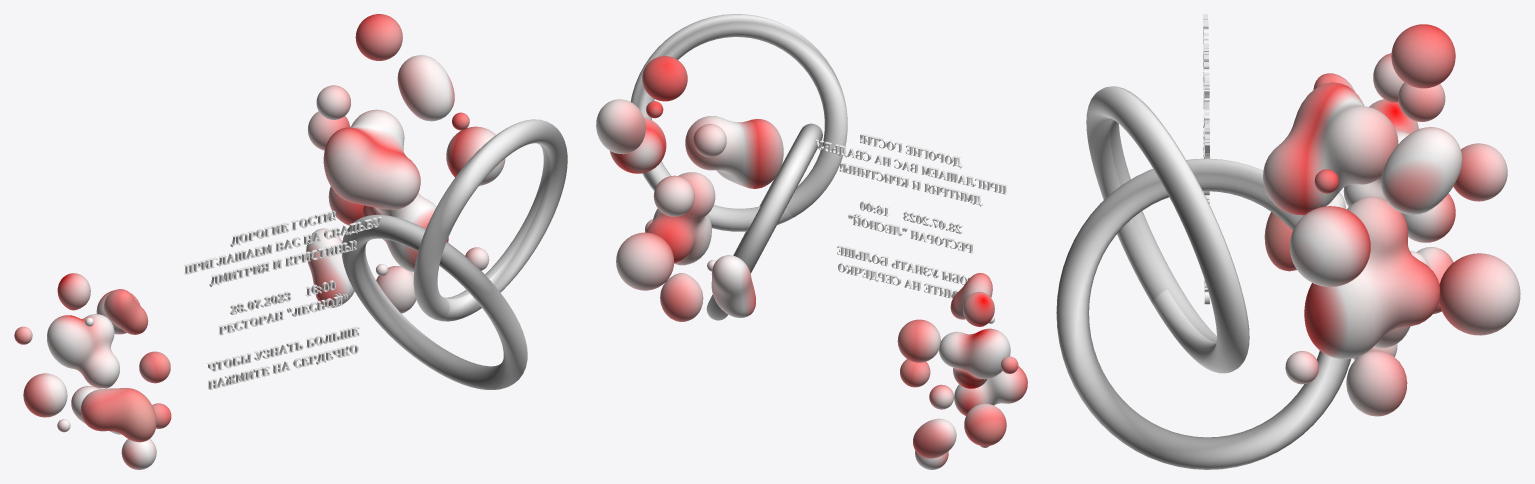
File: Project Name.gltf
The picture shows the model from 3 angles, left to right: view 1: azimuth 30°, elevation 25°; view 2: azimuth 150°, elevation 25°; view 3: azimuth 270°, elevation 25°; orthographic projection. The views are drawn at different scales.
Parts seen in each view (by area): view 1: Torus 1, Torus, Blob 2 (×2), Blob 8 (×2), Blob 13 (×2), Blob 11 (×2), Blob 10, Blob 5 (×2), Blob 1 (×2), Blob 9 (×2), Blob 6, Blob 4; view 2: Torus 1, Blob 2 (×2), Blob 8 (×2), Blob 4 (×2), Torus, Blob 10 (×2), Blob 13 (×2), Blob 11 (×2), Blob 1 (×2), Blob 9 (×2), Blob 5, Blob 6 (×2); view 3: Torus, Torus 1, Blob 8 (×2), Blob 2 (×2), Blob 11 (×2), Blob 10 (×2), Blob 4, Blob 1 (×2), Blob 5, Blob 9, Blob 6, Blob 12 (+2 smaller).
Part boxes in pixels (left/top/right/bottom): Torus 1: left=413, top=119, right=567, bottom=321; Torus: left=342, top=214, right=527, bottom=389; Blob 2 (×2): left=80, top=109, right=420, bottom=442; Blob 8 (×2): left=47, top=193, right=448, bottom=388; Blob 13 (×2): left=103, top=228, right=354, bottom=334; Blob 11 (×2): left=23, top=126, right=505, bottom=417; Blob 10: left=397, top=55, right=454, bottom=121; Blob 5 (×2): left=121, top=14, right=402, bottom=469; Blob 1 (×2): left=57, top=266, right=416, bottom=313; Blob 9 (×2): left=139, top=111, right=350, bottom=383; Blob 6: left=316, top=85, right=350, bottom=119; Blob 4: left=328, top=186, right=363, bottom=225; Torus 1: left=630, top=14, right=847, bottom=231; Blob 2 (×2): left=685, top=116, right=1027, bottom=415; Blob 8 (×2): left=646, top=172, right=1010, bottom=388; Blob 4 (×2): left=616, top=232, right=940, bottom=362; Torus: left=706, top=123, right=822, bottom=320; Blob 10 (×2): left=596, top=99, right=956, bottom=458; Blob 13 (×2): left=711, top=255, right=992, bottom=319; Blob 11 (×2): left=610, top=117, right=1006, bottom=446; Blob 1 (×2): left=660, top=273, right=994, bottom=326; Blob 9 (×2): left=653, top=175, right=930, bottom=387; Blob 5: left=642, top=56, right=687, bottom=101; Blob 6 (×2): left=693, top=124, right=953, bottom=409; Torus: left=1056, top=158, right=1350, bottom=469; Torus 1: left=1086, top=86, right=1249, bottom=373; Blob 8 (×2): left=1304, top=99, right=1439, bottom=359; Blob 2 (×2): left=1263, top=82, right=1398, bottom=271; Blob 11 (×2): left=1290, top=193, right=1455, bottom=286; Blob 10 (×2): left=1381, top=127, right=1462, bottom=314; Blob 4: left=1439, top=253, right=1520, bottom=335; Blob 1 (×2): left=1346, top=53, right=1407, bottom=416; Blob 5: left=1391, top=24, right=1455, bottom=88; Blob 9: left=1453, top=143, right=1507, bottom=201; Blob 6: left=1398, top=82, right=1445, bottom=121; Blob 12: left=1285, top=351, right=1318, bottom=384.
Bounding box in the file's own units: 2.28 × 1.73 × 1.42.
Materials: 5 (4 with a texture image).
